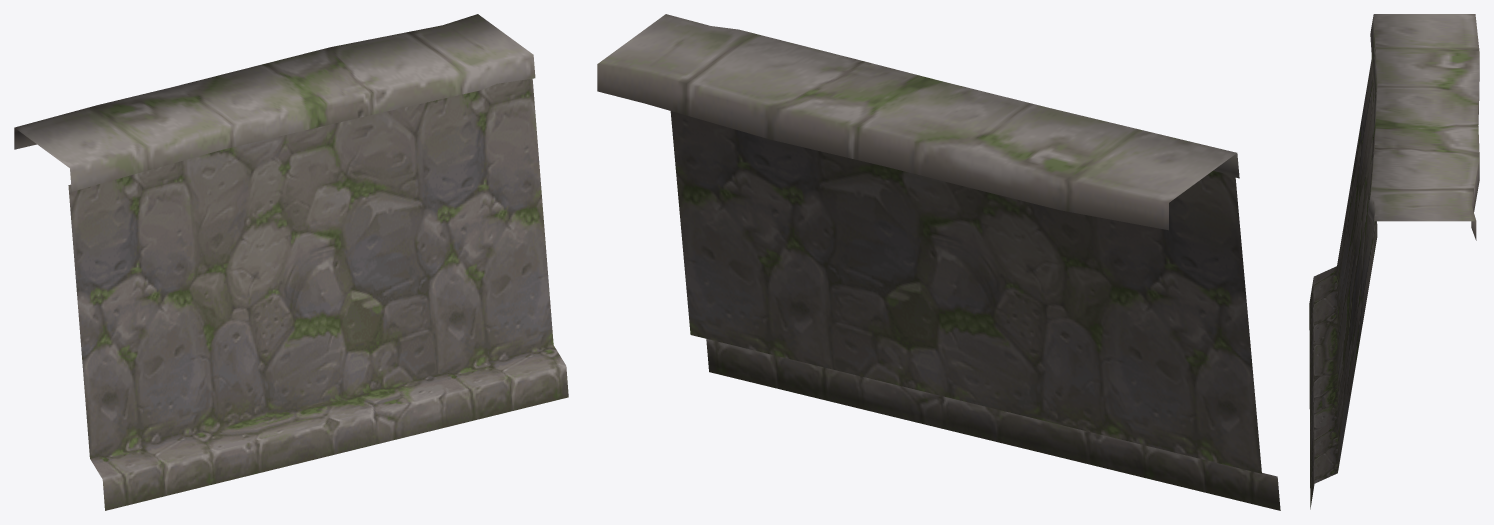
Rendered from shrine_jz004_03.FBX.
3 views of the same model, side by side, from view 1: azimuth 30°, elevation 25°; view 2: azimuth 150°, elevation 25°; view 3: azimuth 270°, elevation 25° (orthographic). The views are drawn at different scales.
Parts seen in each view (by area): view 1: shrine_jz004_03; view 2: shrine_jz004_03; view 3: shrine_jz004_03.
Part boxes in pixels (x1,y1,x2,y2): shrine_jz004_03: [14, 14, 568, 510]; shrine_jz004_03: [597, 14, 1280, 510]; shrine_jz004_03: [1309, 14, 1479, 509].
Bounding box in the file's own units: 3.97 × 2.6 × 1.38.
1 material, 1 textured.
